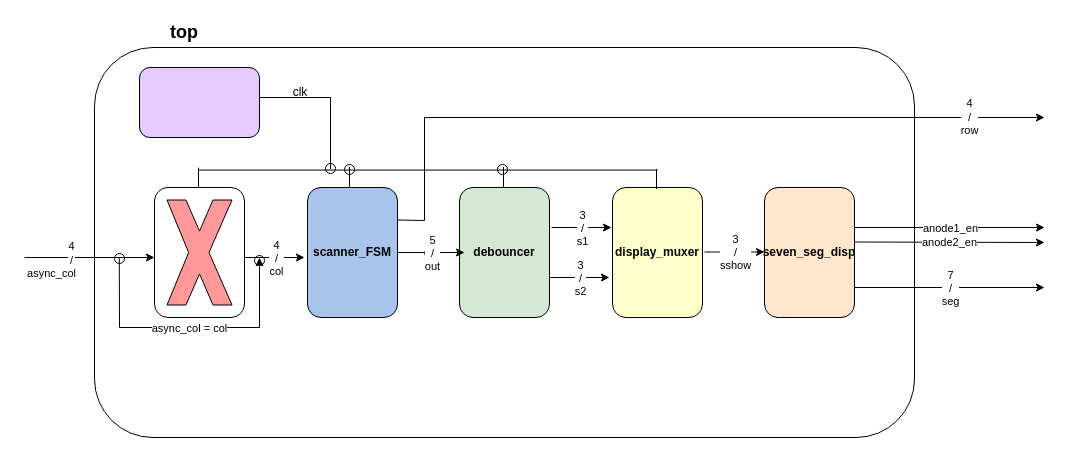
This 1070x455 diagram has some shape labels left out. Each missing label, with the box of its shape:
oscillator: (138, 66, 260, 138)
synchronizer: (154, 186, 244, 318)
